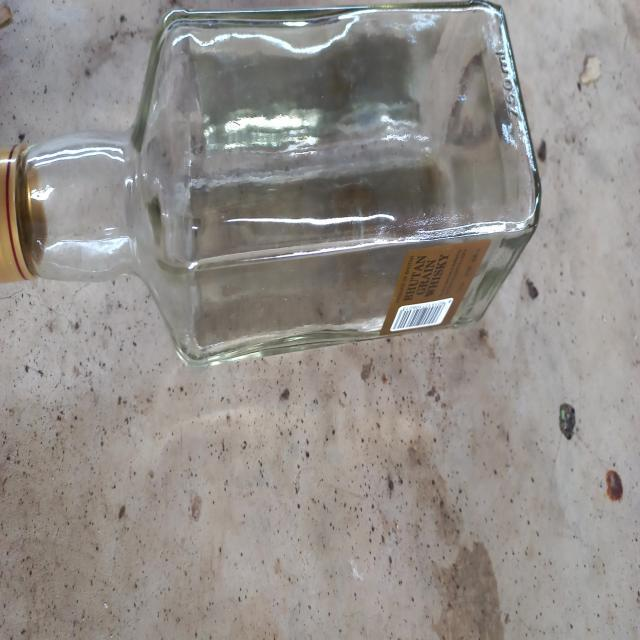Glass: (0, 0, 542, 366)
